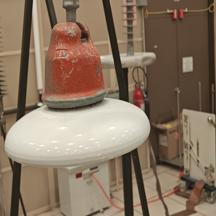insulator: (2, 19, 154, 174)
